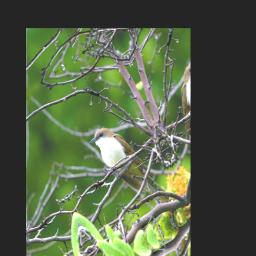Cuckoo: (88, 102, 175, 235)
